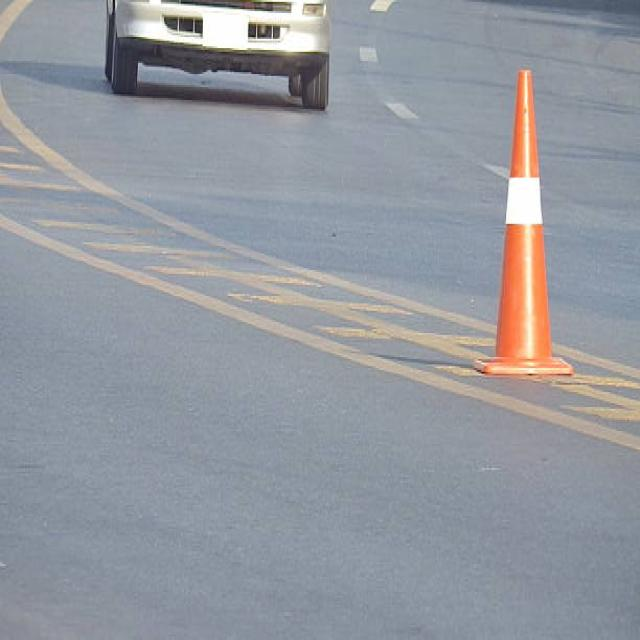Traffic Cone: (461, 39, 590, 398)
